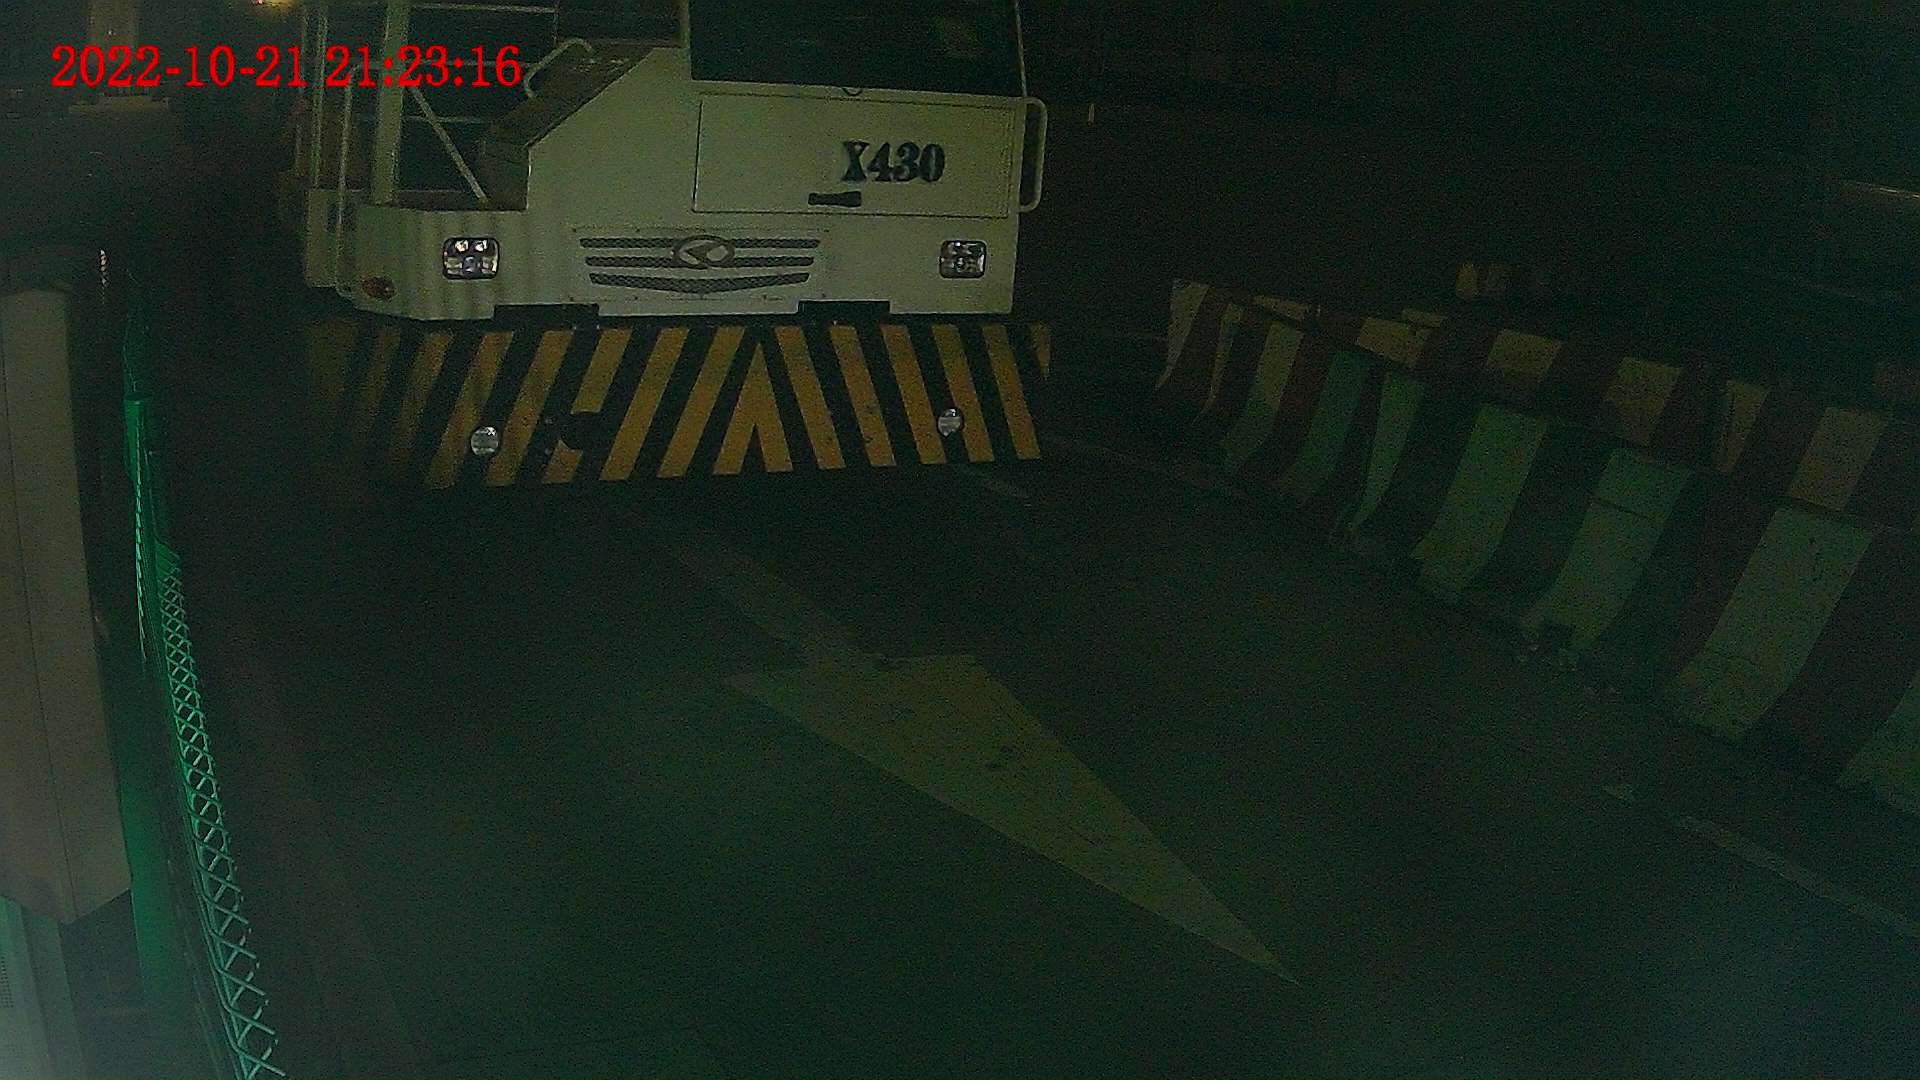head: (268, 1, 1052, 488)
